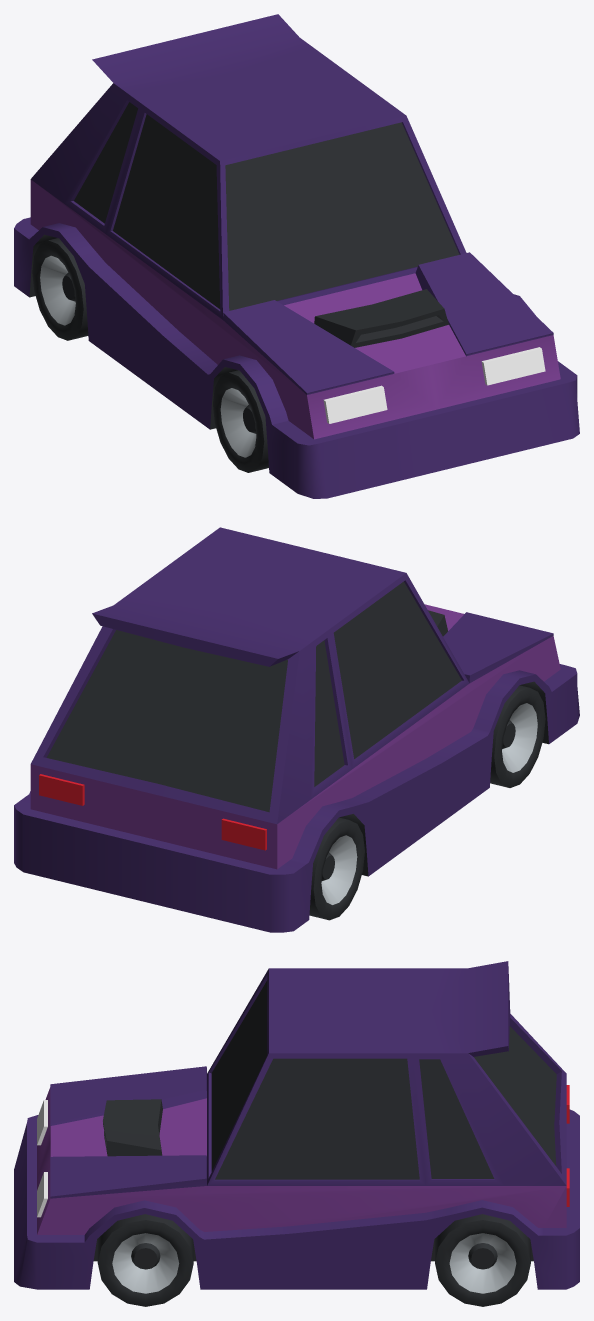
Rendered from Race Royale.fbx_Car5.fbx.
3 views of the same model, one above another, from view 1: azimuth 30°, elevation 25°; view 2: azimuth 150°, elevation 25°; view 3: azimuth 270°, elevation 25° (orthographic). The views are drawn at different scales.
Visible parts, largest first — view 1: Car 5, Car5Wheel4, Car5Wheel2; view 2: Car 5, Car5Wheel4, Car5Wheel2; view 3: Car 5, Car5Wheel1, Car5Wheel3.
Boxes of the visible parts, x1=… form: Car 5: x1=14, y1=14, x2=579, y2=498; Car5Wheel4: x1=32, y1=238, x2=88, y2=340; Car5Wheel2: x1=213, y1=370, x2=268, y2=472; Car 5: x1=14, y1=527, x2=579, y2=932; Car5Wheel4: x1=309, y1=817, x2=364, y2=920; Car5Wheel2: x1=490, y1=685, x2=545, y2=787; Car 5: x1=14, y1=961, x2=579, y2=1289; Car5Wheel1: x1=97, y1=1214, x2=193, y2=1306; Car5Wheel3: x1=435, y1=1214, x2=530, y2=1306.
Size of the model in its own units: 279 by 240 by 514.
